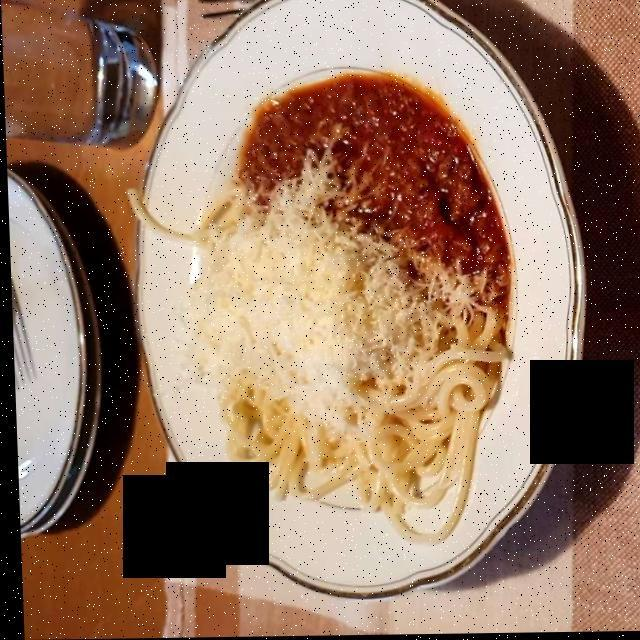bolognaise-sauce: (228, 79, 508, 290)
cheese: (194, 163, 379, 469)
pasta: (183, 214, 508, 536)
